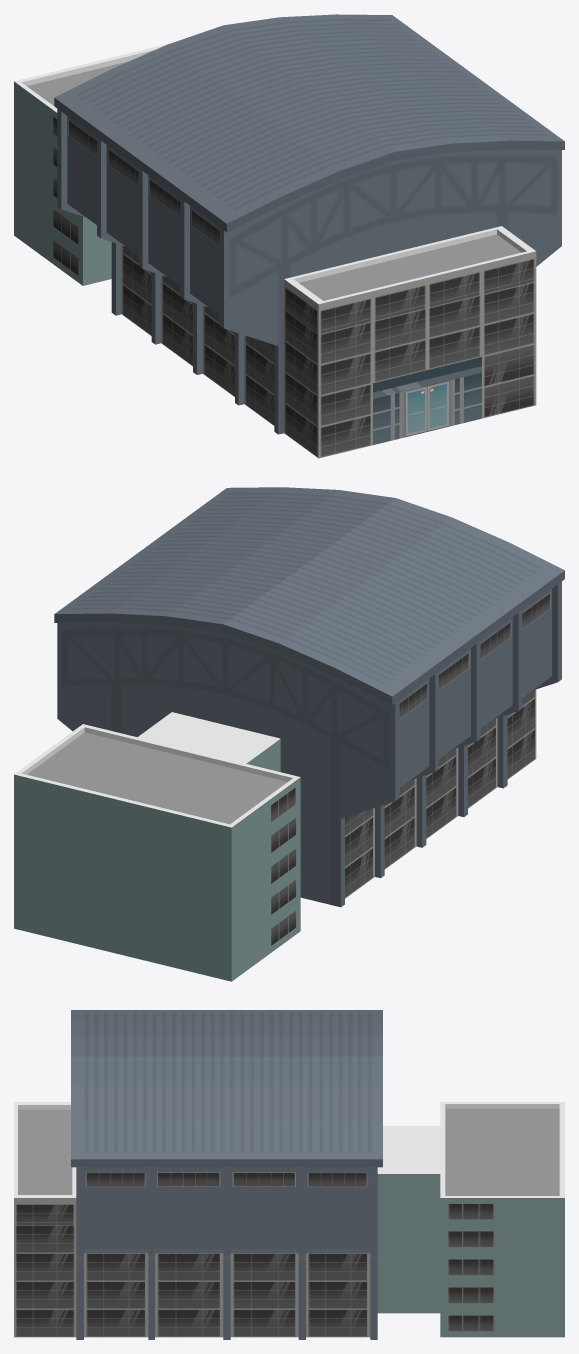
Rendered from building_gym.gltf.
3 renders of one model, top to bottom at view 1: azimuth 30°, elevation 25°; view 2: azimuth 150°, elevation 25°; view 3: azimuth 270°, elevation 25°, orthographic. The views are drawn at different scales.
Visible parts, largest first — view 1: building_gym; view 2: building_gym; view 3: building_gym.
Part boxes in pixels (x1,y1,x2,y2): building_gym: (14, 14, 564, 458); building_gym: (14, 487, 564, 981); building_gym: (14, 1010, 564, 1339).
Bounding box in the file's own units: 2.58 × 1.87 × 4.02.
1 material, 1 textured.
